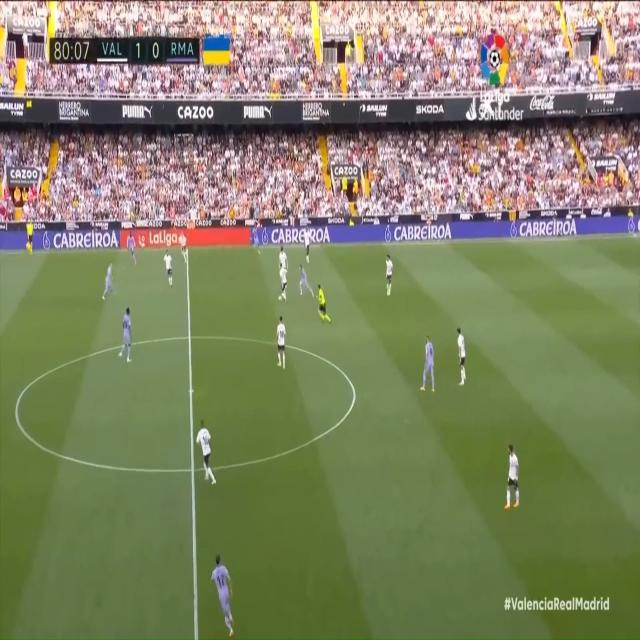ball: (278, 294, 283, 303)
player: (210, 550, 239, 636), (195, 415, 219, 490), (502, 436, 522, 514), (117, 307, 136, 363), (421, 332, 437, 394), (273, 314, 290, 371), (455, 325, 470, 386), (276, 242, 290, 298), (100, 260, 116, 303), (298, 265, 317, 300), (249, 218, 263, 259), (302, 222, 314, 267), (179, 230, 193, 267), (384, 252, 395, 298), (126, 230, 139, 268), (164, 249, 176, 288)
referee: (316, 282, 332, 329), (24, 218, 37, 254)
